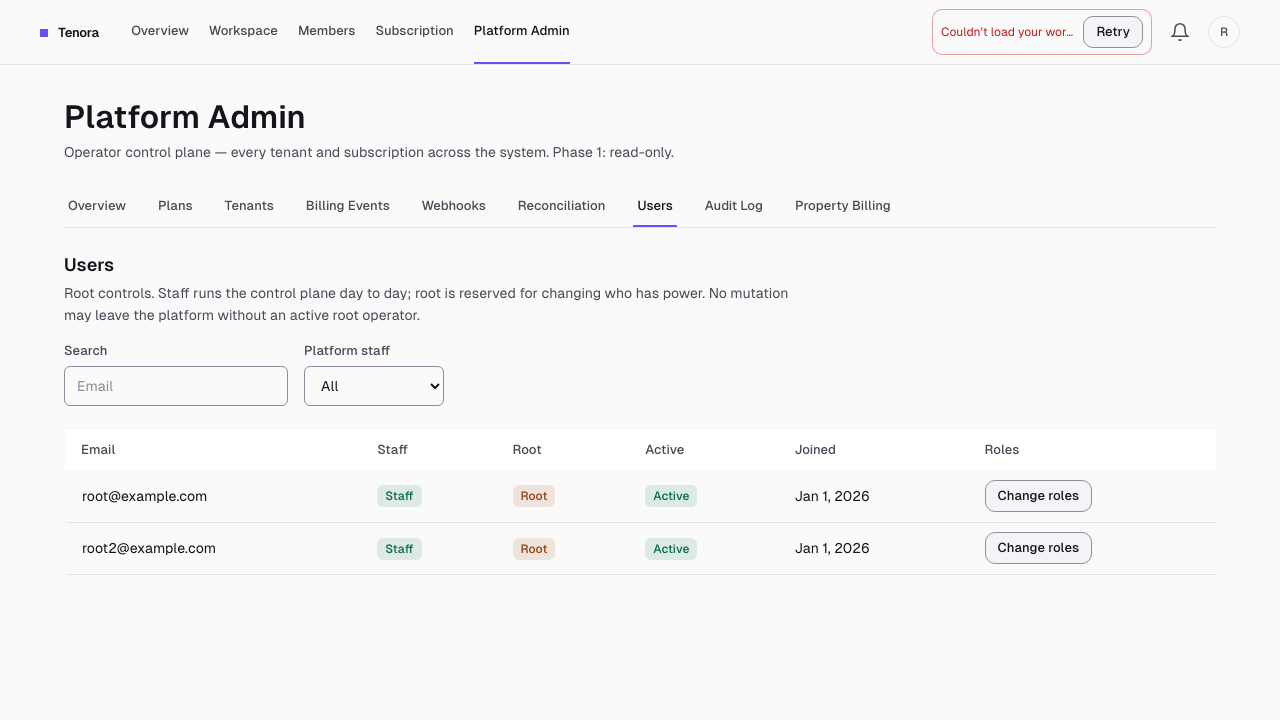
Test: /admin/users — role controls (Root tier) › renders the server refusal when the backend rejects the change
Click the button "Change roles" in the row of "root2@example.com" at (1038, 548), box [984,532,1092,564]
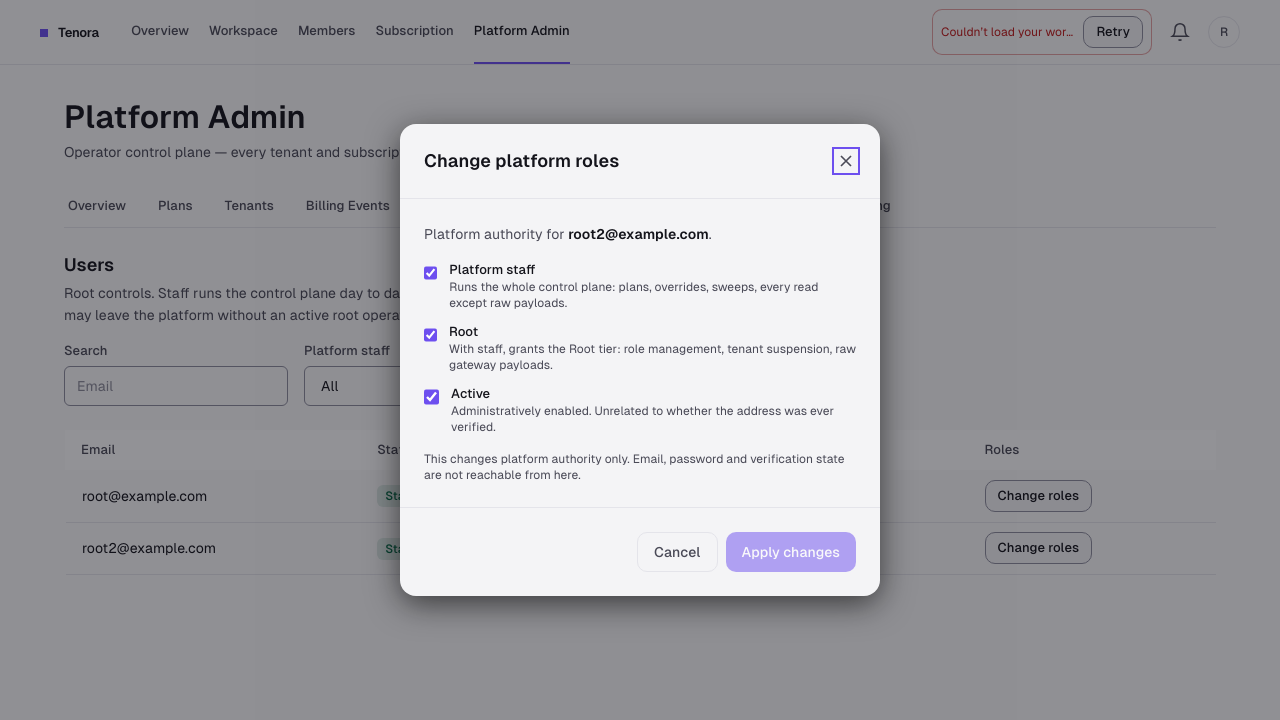
Expected: the dialog is shown, [400,124,880,596]
Click the checkbox labelled "Root" at (430, 335), box [424,327,437,343]
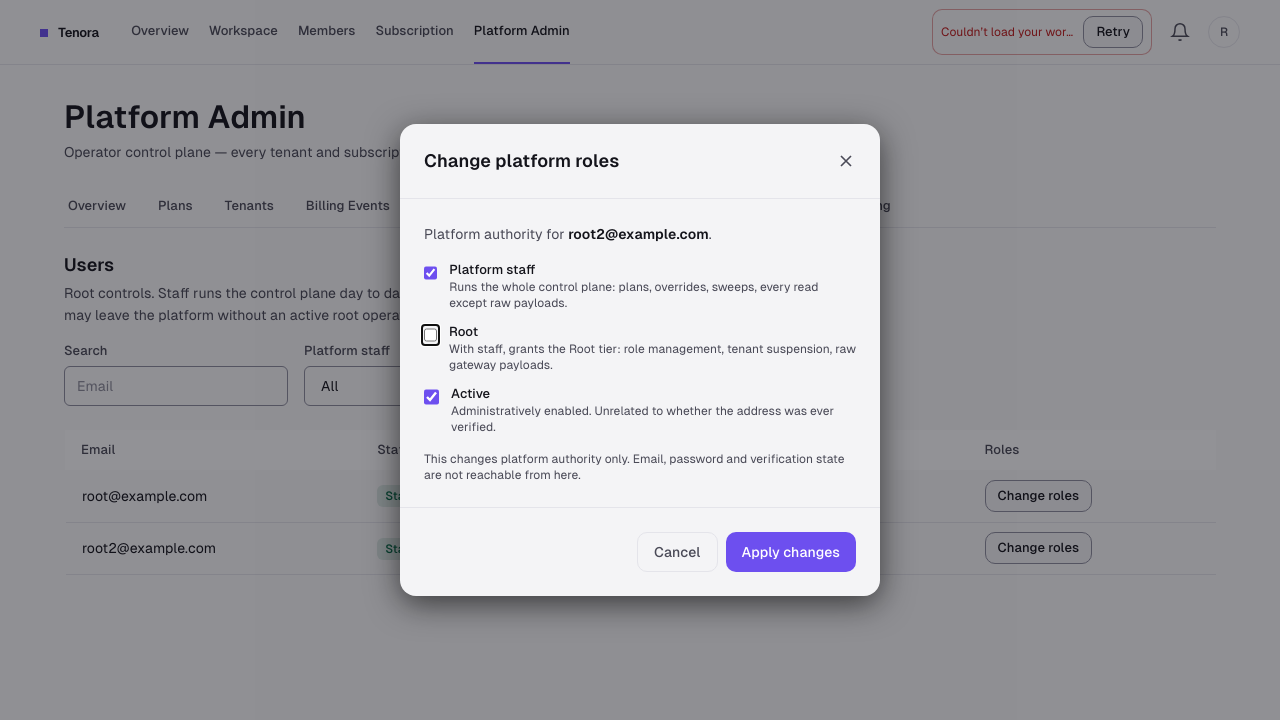
Click the button "Apply changes" at (791, 552), box [726,532,856,572]
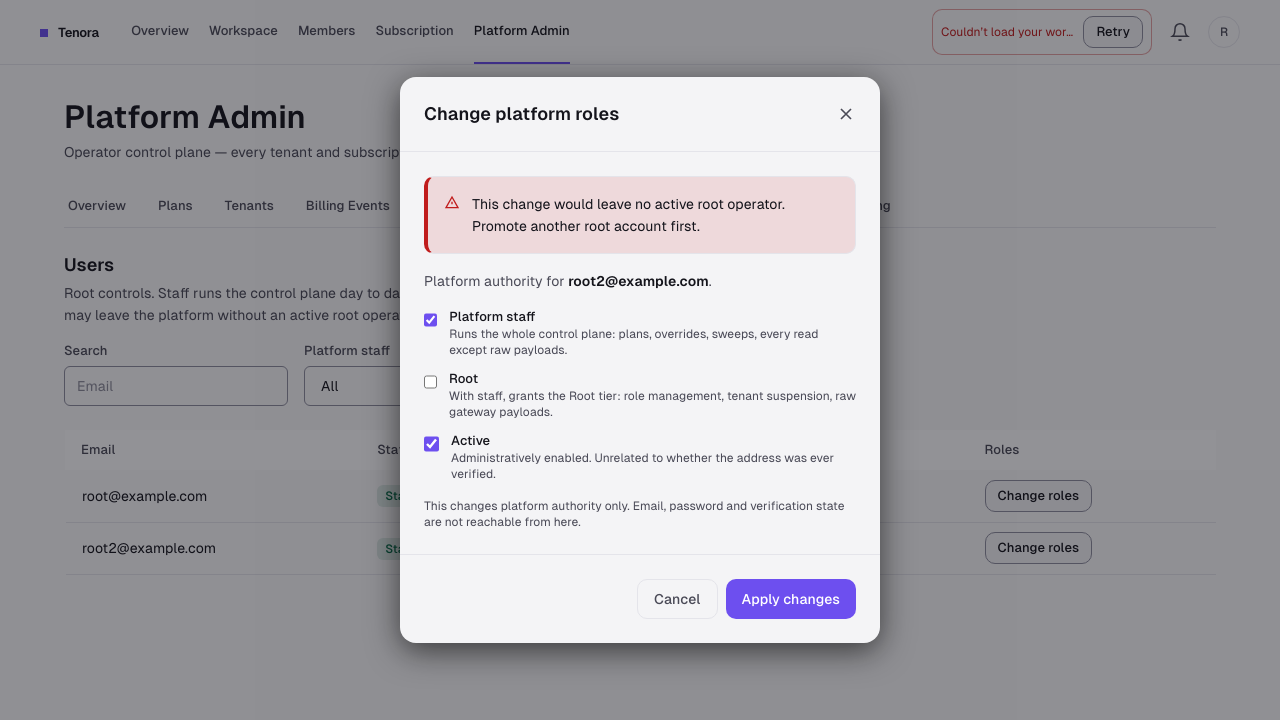
Expected: the dialog is shown, [400,77,880,643]
Expected: the text "no active root operator" is shown, [472,196,785,234]
